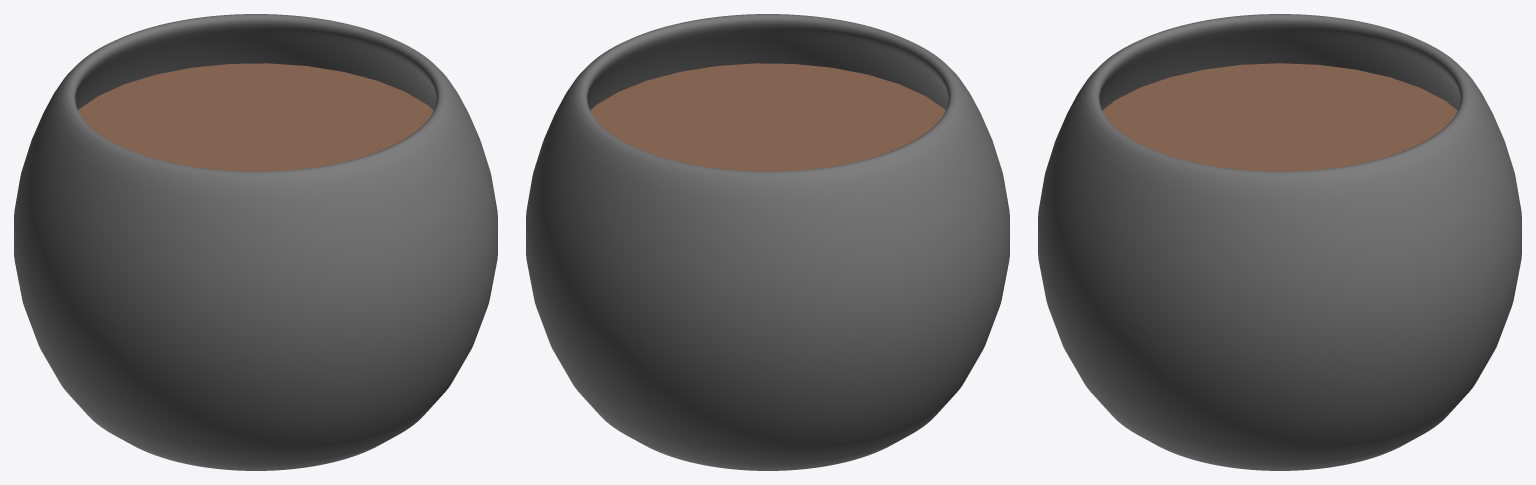
File: round_grey.glb
The picture shows the model from 3 angles, left to right: view 1: azimuth 30°, elevation 25°; view 2: azimuth 150°, elevation 25°; view 3: azimuth 270°, elevation 25°; orthographic projection.
Visible parts, largest first — view 1: Circle.004, Circle.005; view 2: Circle.004, Circle.005; view 3: Circle.004, Circle.005.
Part boxes in pixels (<box>): Circle.004: <box>14,14,497,470</box>; Circle.005: <box>78,63,433,171</box>; Circle.004: <box>526,14,1009,470</box>; Circle.005: <box>590,63,945,171</box>; Circle.004: <box>1038,14,1521,470</box>; Circle.005: <box>1102,63,1457,171</box>.
Size of the model in its own units: 13.78 by 10.23 by 13.78.
